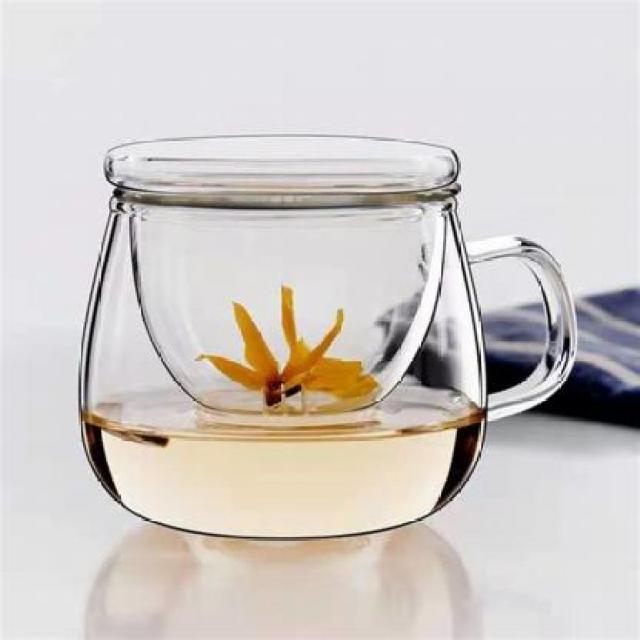taza: (40, 66, 525, 571)
